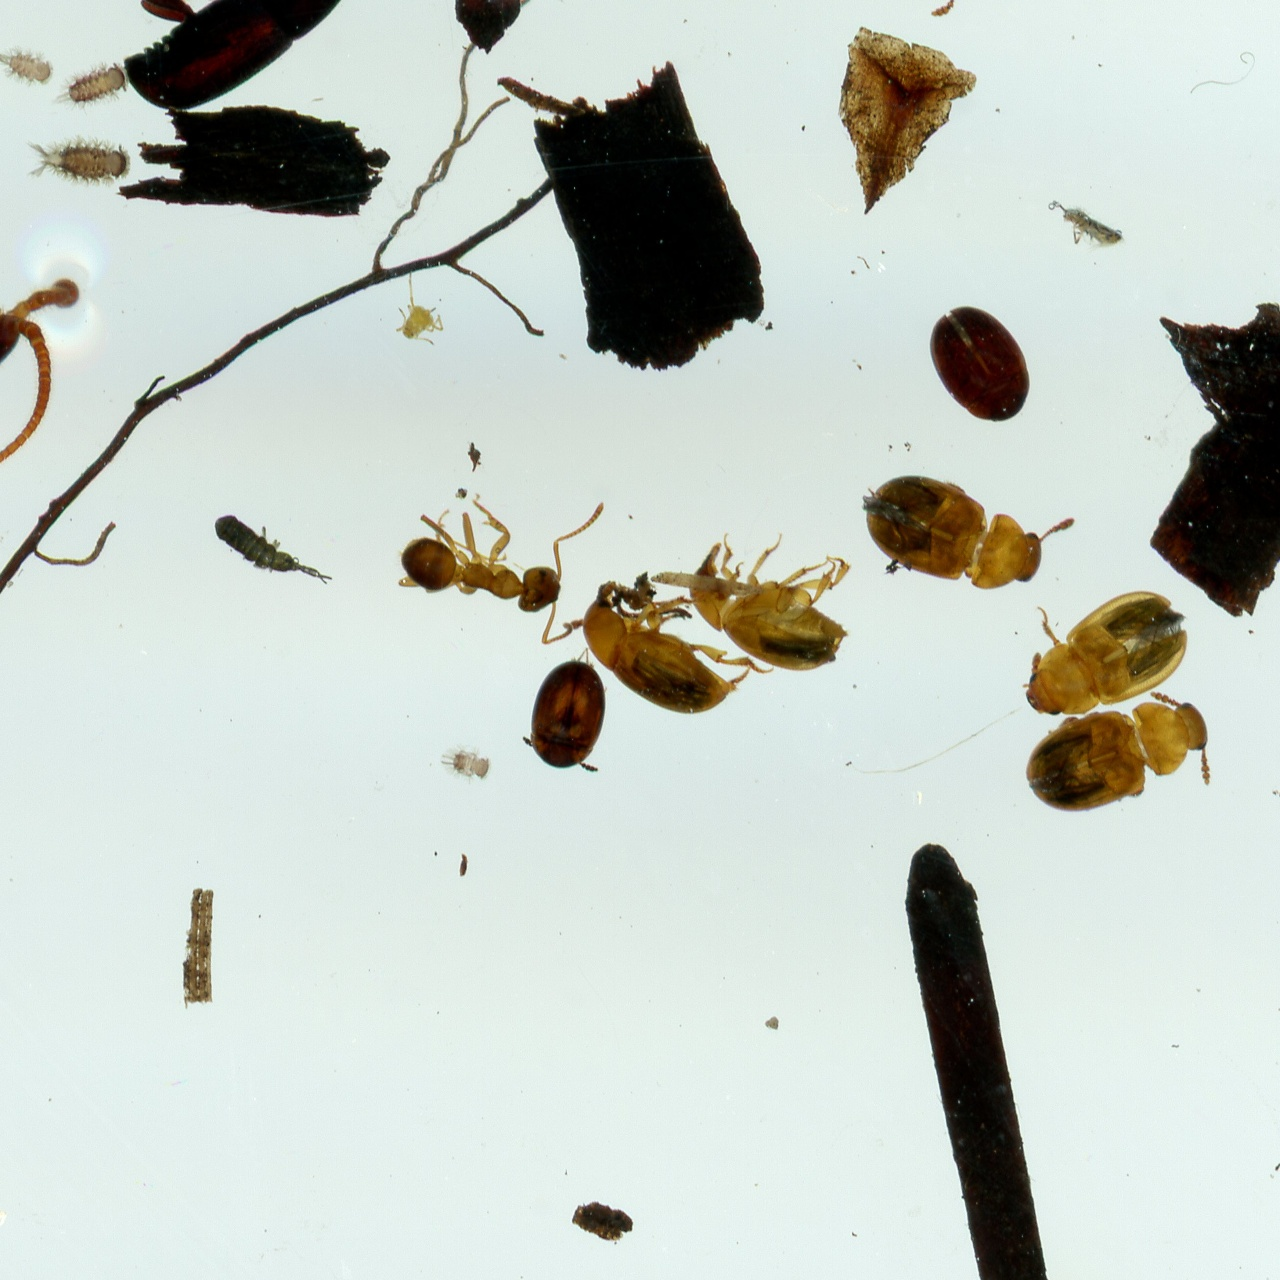arthropod: (387, 496, 608, 646), (856, 462, 1089, 591), (1022, 551, 1175, 726), (701, 525, 878, 665), (134, 0, 342, 113), (581, 568, 714, 737), (1028, 703, 1214, 811), (926, 281, 1037, 424), (0, 227, 69, 418), (212, 497, 339, 588), (524, 655, 604, 778), (16, 129, 128, 183), (1043, 196, 1130, 252), (394, 275, 445, 348), (830, 0, 1007, 18), (61, 55, 114, 110), (0, 42, 57, 87), (437, 743, 486, 782)
